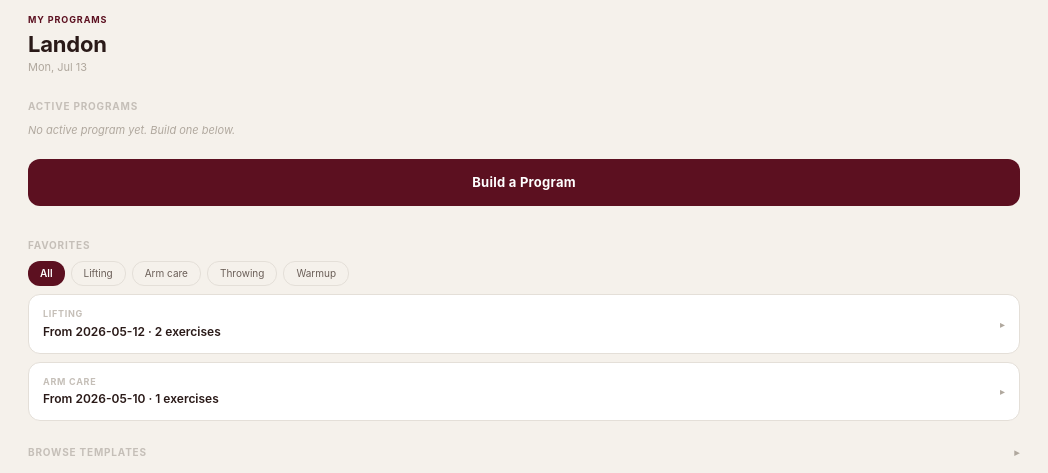
it: Programs: Favorites section › filter chips narrow the list by block_type
Expected: the element with test id "favorite-f1" is shown, [28, 294, 1020, 354]
Expected: the element with test id "favorite-f2" is shown, [28, 362, 1020, 421]
Click the button "Arm care": [166, 274] box [132, 261, 201, 286]
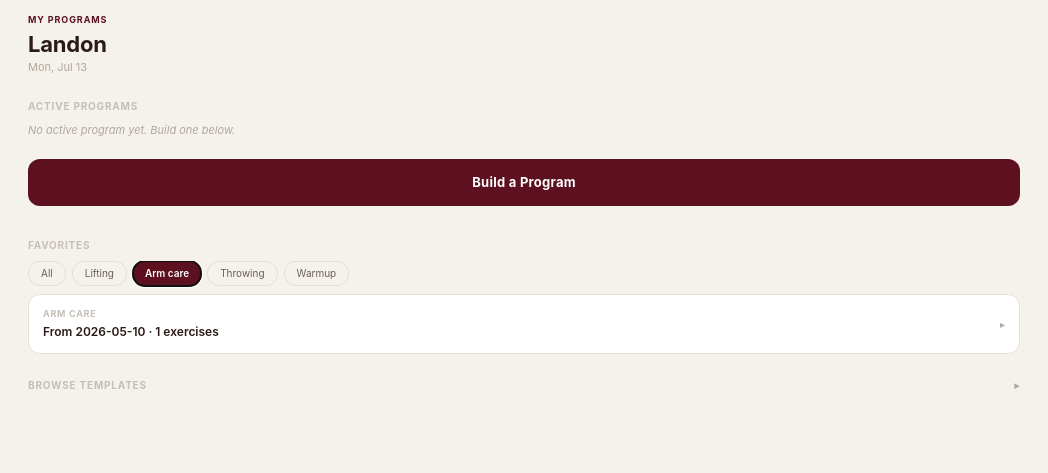
Expected: the element with test id "favorite-f2" is shown, [28, 294, 1020, 354]
Now the element with test id "favorite-f1" is gone
